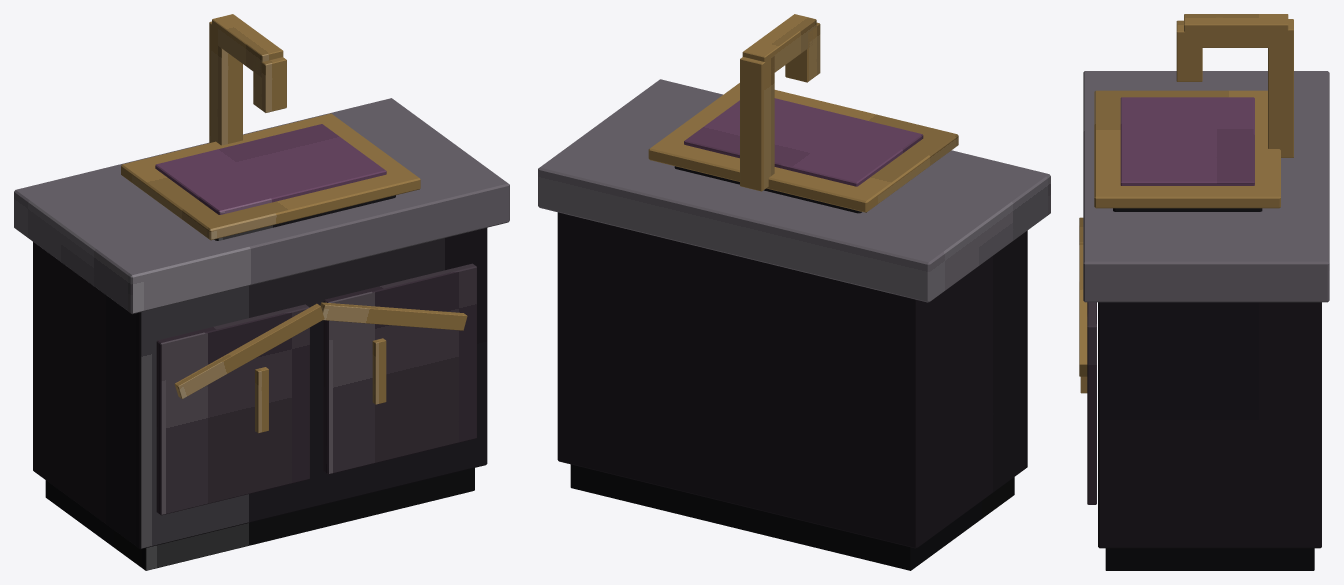
Rendered from gothic_kitchen_sink.glb.
3 views of the same model, side by side, from view 1: azimuth 30°, elevation 25°; view 2: azimuth 150°, elevation 25°; view 3: azimuth 270°, elevation 25° (orthographic). The views are drawn at different scales.
Visible parts, largest first — view 1: SinkCabinet, SinkWorktop, CabinetDoor_2, CabinetDoor_1, BasinOpening, SinkRim, SinkPlinth, FaucetPost, GothicCabinetArchLeft, GothicCabinetArchRight, FaucetSpout, FaucetDrop (+2 smaller); view 2: SinkCabinet, SinkWorktop, SinkPlinth, SinkRim, BasinOpening, FaucetPost, FaucetSpout, FaucetDrop; view 3: SinkCabinet, SinkWorktop, BasinOpening, SinkRim, SinkPlinth, FaucetPost, FaucetSpout, CabinetDoor_2, FaucetDrop, GothicCabinetArchRight, SinkBasin.
Part boxes in pixels (bbox=[...]): SinkCabinet: bbox=[33, 228, 487, 549]; SinkWorktop: bbox=[14, 98, 509, 314]; CabinetDoor_2: bbox=[323, 263, 476, 474]; CabinetDoor_1: bbox=[156, 304, 309, 515]; BasinOpening: bbox=[155, 124, 386, 214]; SinkRim: bbox=[121, 113, 420, 240]; SinkPlinth: bbox=[45, 468, 474, 570]; FaucetPost: bbox=[209, 21, 242, 145]; GothicCabinetArchLeft: bbox=[174, 303, 324, 399]; GothicCabinetArchRight: bbox=[320, 302, 467, 330]; FaucetSpout: bbox=[212, 14, 283, 77]; FaucetDrop: bbox=[253, 57, 286, 112]; SinkCabinet: bbox=[557, 212, 1027, 548]; SinkWorktop: bbox=[538, 79, 1050, 302]; SinkPlinth: bbox=[570, 464, 1014, 570]; SinkRim: bbox=[648, 83, 958, 212]; BasinOpening: bbox=[684, 98, 923, 186]; FaucetPost: bbox=[740, 56, 774, 191]; FaucetSpout: bbox=[742, 14, 816, 78]; FaucetDrop: bbox=[785, 22, 820, 82]; SinkCabinet: bbox=[1098, 302, 1321, 548]; SinkWorktop: bbox=[1083, 71, 1329, 302]; BasinOpening: bbox=[1120, 97, 1254, 185]; SinkRim: bbox=[1094, 90, 1280, 208]; SinkPlinth: bbox=[1105, 548, 1314, 570]; FaucetPost: bbox=[1268, 19, 1293, 157]; FaucetSpout: bbox=[1184, 14, 1288, 47]; CabinetDoor_2: bbox=[1087, 302, 1096, 504]; FaucetDrop: bbox=[1176, 20, 1202, 81]; GothicCabinetArchRight: bbox=[1079, 245, 1087, 376]; SinkBasin: bbox=[1113, 208, 1262, 211].
Size of the model in its own units: 1.22 by 1.39 by 0.67.
1 material, 1 textured.
